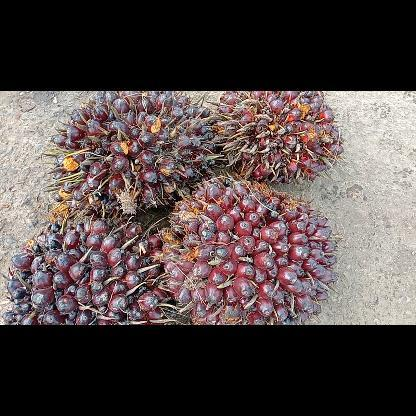Kurang masak: (40, 90, 220, 218), (0, 210, 173, 325), (207, 91, 346, 185)
TBS masak: (158, 170, 341, 324)
